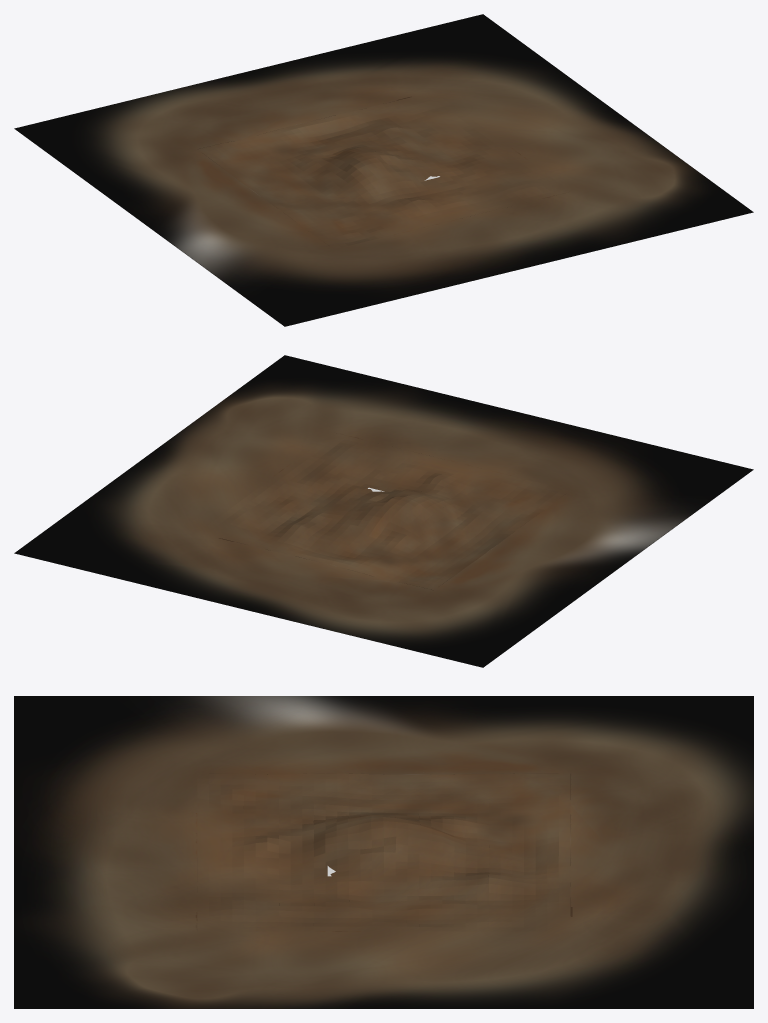
Rendered from justanothersword.fbx.
3 renders of one model, top to bottom at view 1: azimuth 30°, elevation 25°; view 2: azimuth 150°, elevation 25°; view 3: azimuth 270°, elevation 25°, orthographic. The views are drawn at different scales.
Parts seen in each view (by area): view 1: Landscape; view 2: Landscape; view 3: Landscape.
Part boxes in pixels (x1,y1,x2,y2): Landscape: (14,14,753,326); Landscape: (14,355,753,667); Landscape: (14,696,753,1008).
Size of the model in its own units: 143426 by 6634 by 143426.
